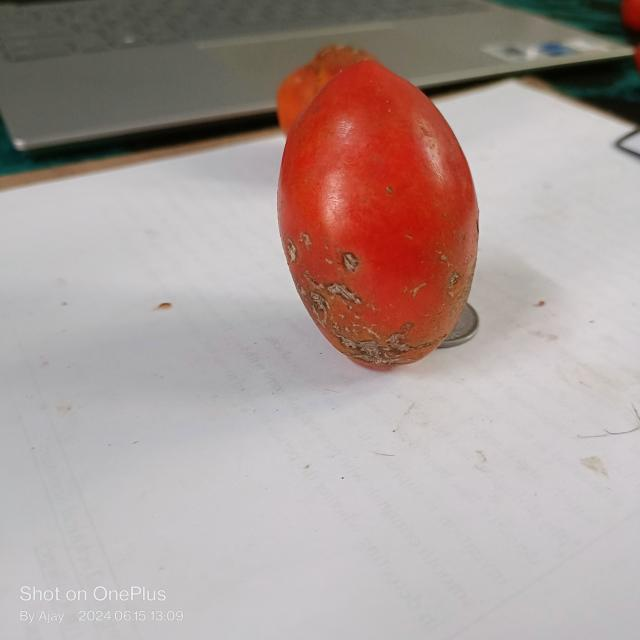Bacterial_Spot: (333, 314, 423, 369), (296, 282, 359, 322), (284, 230, 316, 268), (341, 253, 360, 274)
